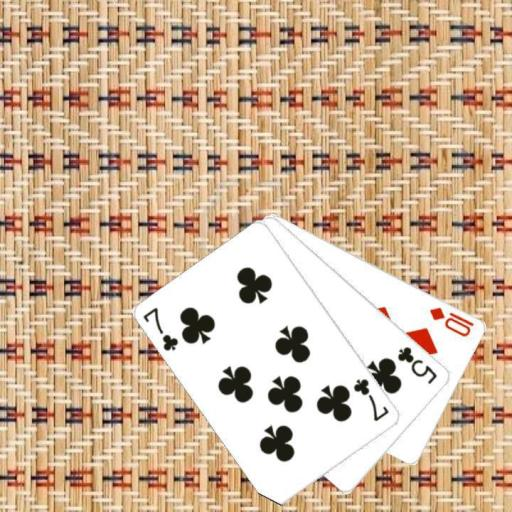card-corner: (140, 304, 181, 352), (351, 375, 391, 423), (394, 343, 439, 385), (426, 304, 476, 338)
